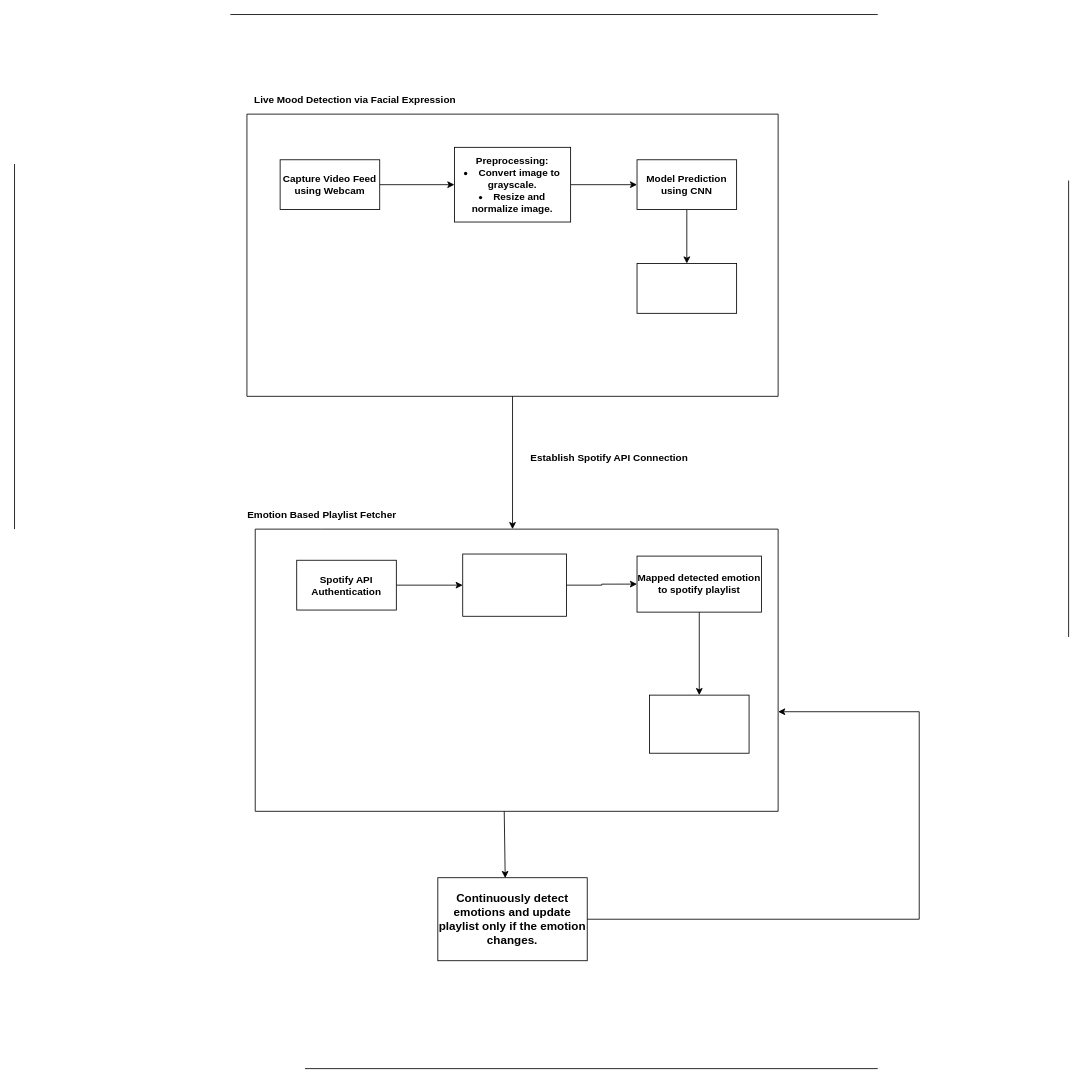
Some shapes in this 1084 by 1084 pixel diagram are drawn without their labels. The centre of each missing label's shape, as x and y in pixels:
"Emotion Classification" belongs at [686,288].
"Fetch Playlist: Send Spotify API POST requests to control playback." belongs at [699,723].
"Handle API requests securely with authentication headers" belongs at [514,584].
